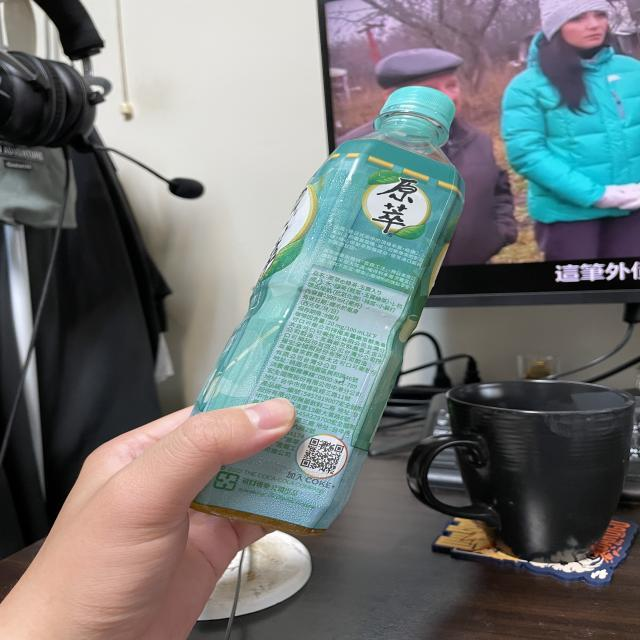YuanTsui_GreenTea: (150, 73, 516, 546)
